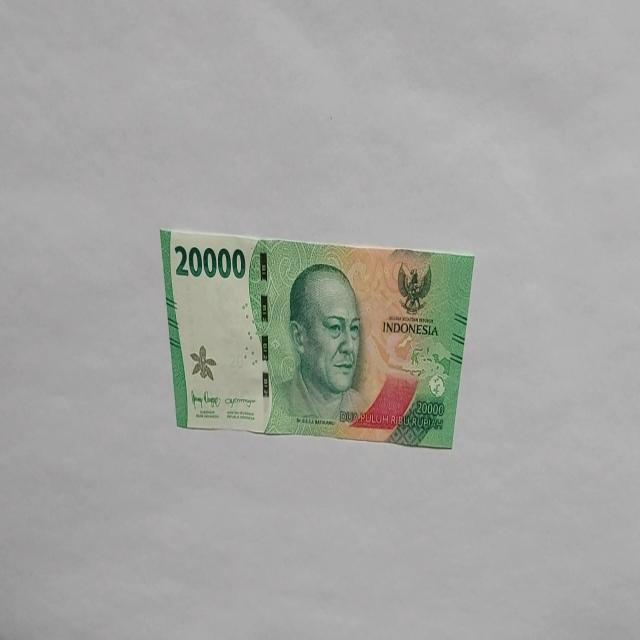dua puluh ribu rupiah: (159, 226, 475, 449), (266, 260, 370, 436)
